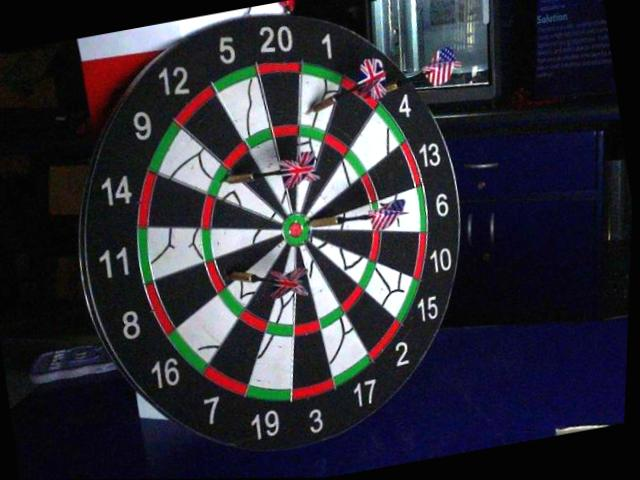bullseye: (284, 215, 311, 246)
single_1: (298, 75, 337, 128)
single_18: (340, 78, 378, 108)
single_8: (218, 234, 283, 281)
triple_9: (208, 167, 230, 197)
